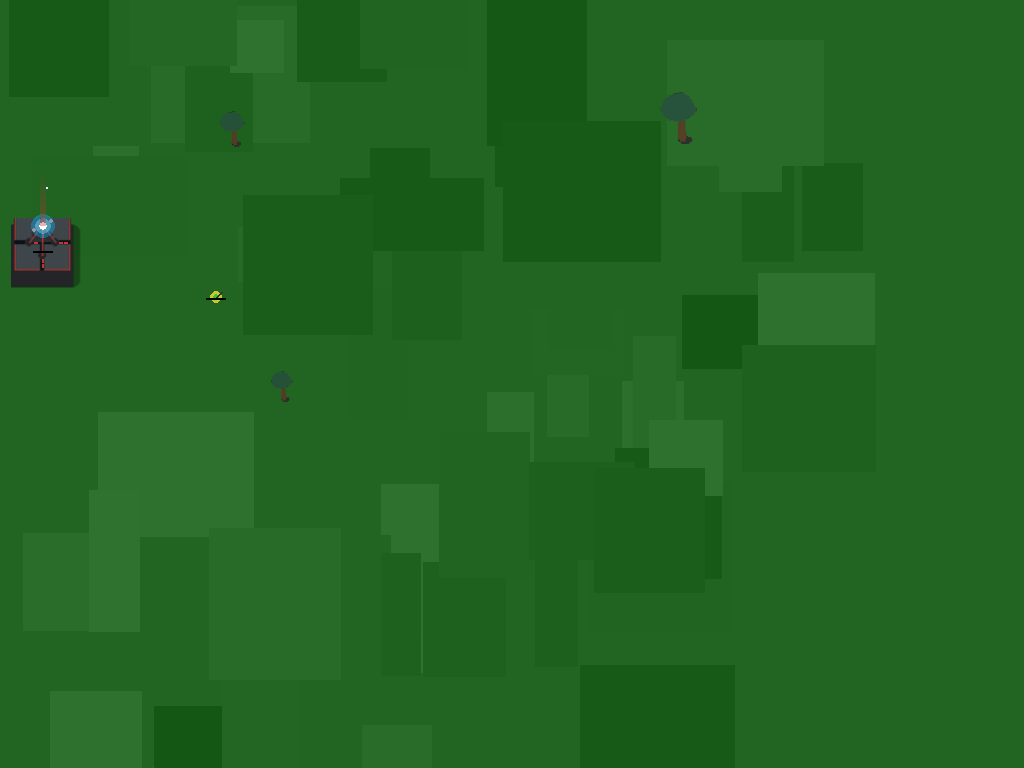Lake: (6, 213, 80, 287)
Rifleman: (202, 283, 230, 311)
